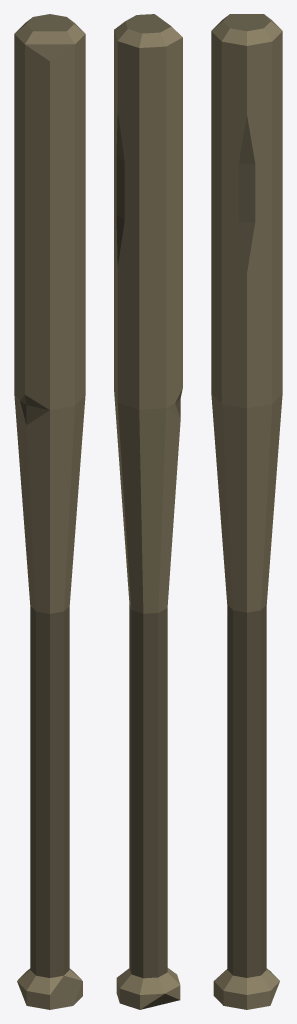
Rendered from MW1_Melee_Bat_01.fbx.
3 renders of one model, left to right at view 1: azimuth 90°, elevation 25°; view 2: azimuth 210°, elevation 25°; view 3: azimuth 270°, elevation 25°, orthographic.
Parts seen in each view (by area): view 1: Melee_Bat_01; view 2: Melee_Bat_01; view 3: Melee_Bat_01.
Part boxes in pixels (x1,y1,x2,y2): Melee_Bat_01: (14, 14, 85, 1009); Melee_Bat_01: (114, 14, 182, 1009); Melee_Bat_01: (211, 14, 282, 1009).
Size of the model in its own units: 5.94 by 89.55 by 5.94.
